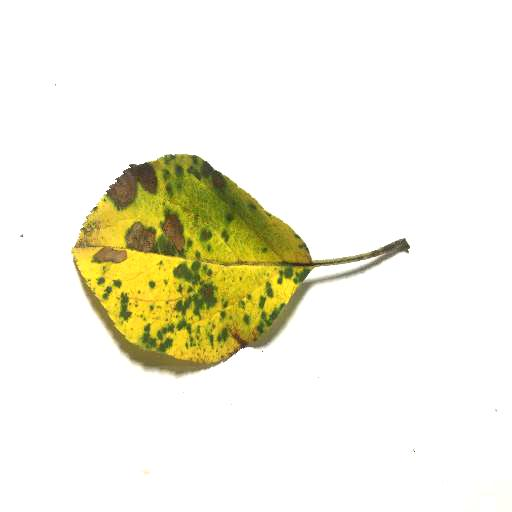Brown_Spot: (111, 166, 157, 203), (214, 324, 258, 349), (161, 214, 189, 253), (121, 228, 152, 248), (198, 284, 220, 307), (198, 168, 220, 184), (98, 249, 128, 260)
